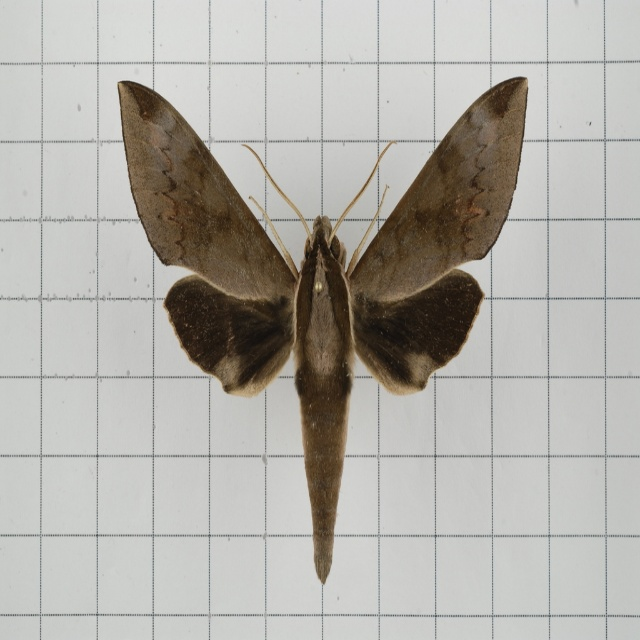Butterfly: (106, 85, 529, 558)
